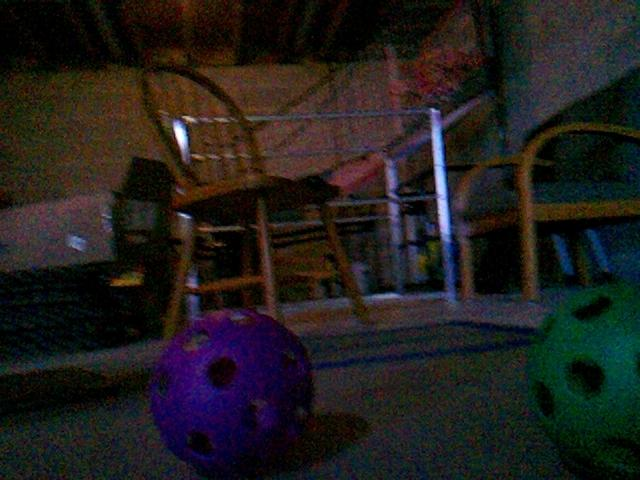Green: (522, 279, 640, 476)
Purple: (147, 304, 315, 477)
